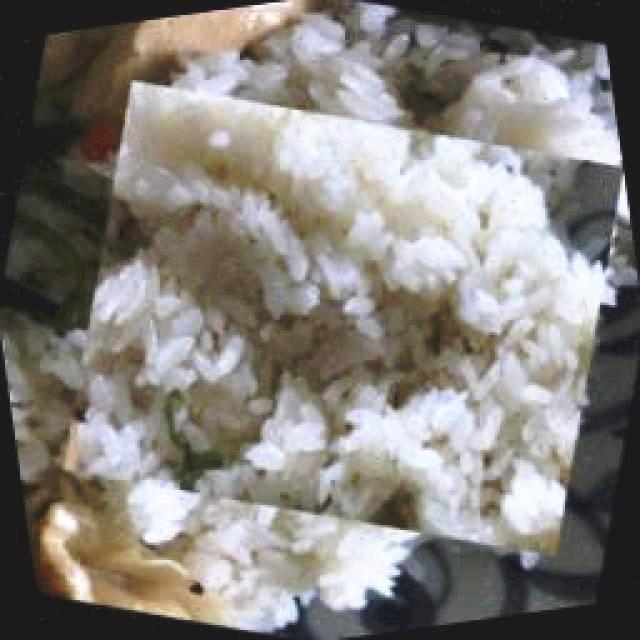rice: (67, 128, 581, 551), (328, 179, 602, 543), (164, 6, 617, 187), (274, 136, 572, 344), (341, 364, 568, 550), (85, 247, 272, 438), (208, 181, 388, 331), (192, 13, 416, 123), (420, 46, 618, 168), (467, 292, 598, 471), (166, 504, 347, 627), (149, 199, 304, 337), (448, 208, 596, 351), (127, 304, 268, 454), (217, 380, 359, 511), (332, 388, 467, 521), (344, 146, 482, 262), (2, 313, 87, 482), (436, 453, 568, 558), (184, 541, 316, 630), (504, 356, 586, 480), (307, 520, 416, 609), (276, 116, 380, 209), (472, 97, 610, 166), (165, 356, 262, 454), (230, 191, 318, 299), (530, 252, 606, 355), (235, 451, 333, 512), (116, 156, 193, 218), (127, 475, 196, 544), (542, 115, 623, 172), (420, 135, 480, 185), (190, 463, 254, 509), (343, 205, 391, 260), (493, 350, 534, 408)
